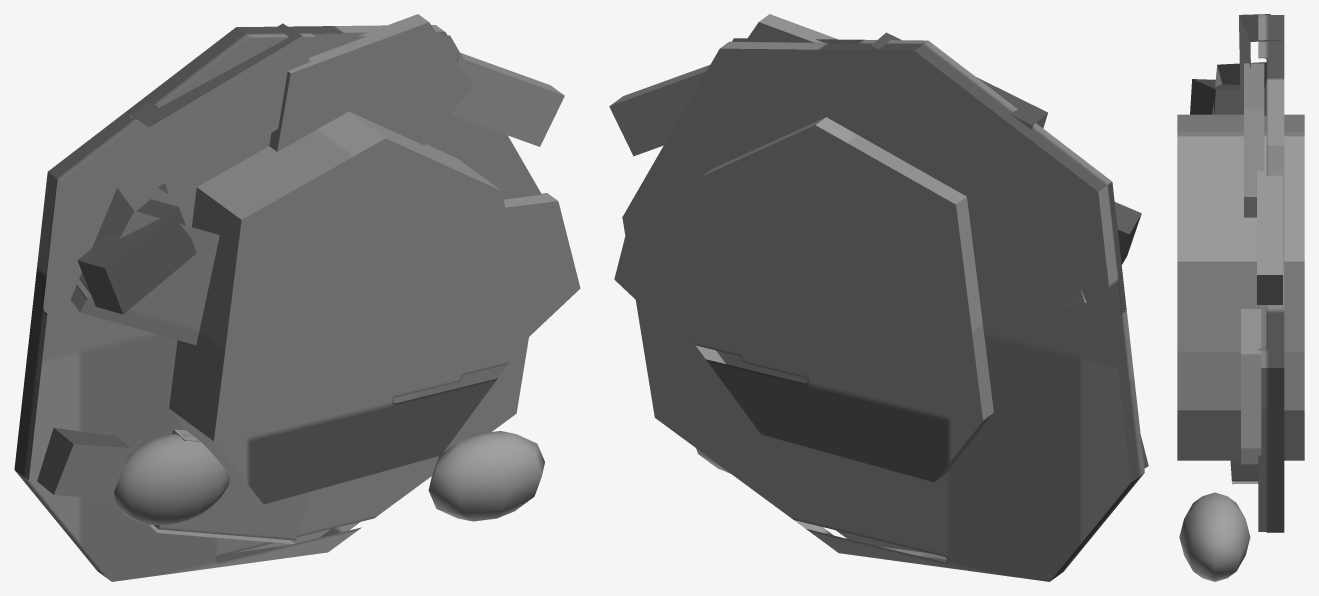
The picture shows the model from 3 angles, left to right: view 1: azimuth 30°, elevation 25°; view 2: azimuth 150°, elevation 25°; view 3: azimuth 270°, elevation 25°; orthographic projection. The views are drawn at different scales.
Size of the model in its own units: 0.978 by 0.92 by 0.22.
